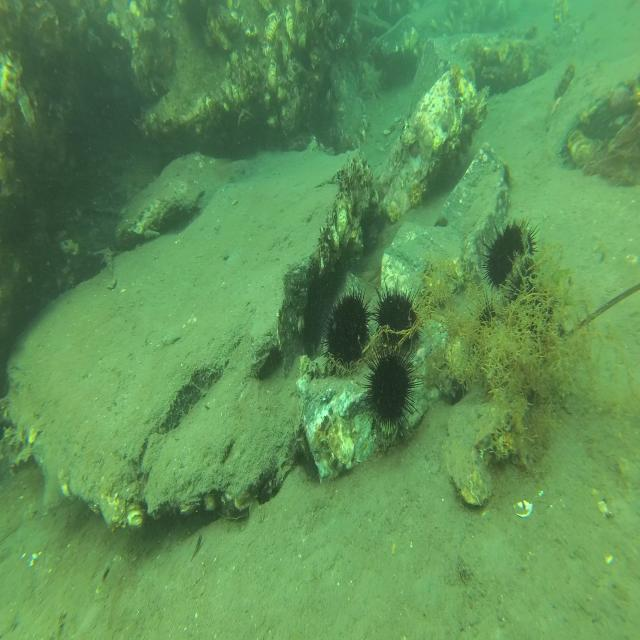echinus: (364, 343, 419, 445), (371, 270, 425, 368), (483, 218, 539, 299), (321, 290, 371, 372)
